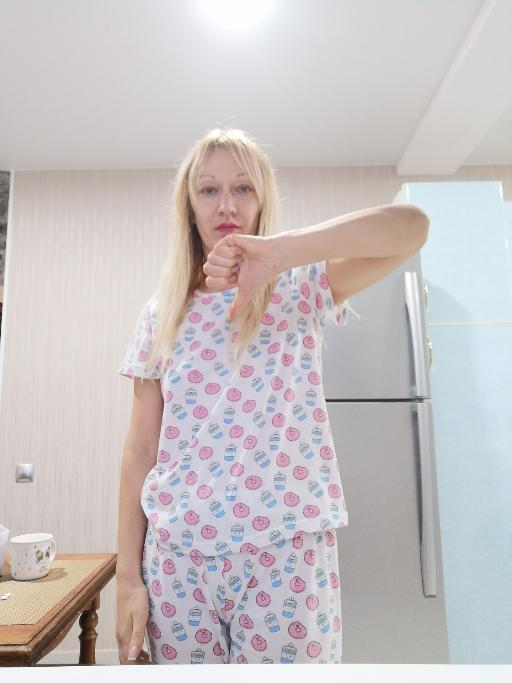dislike: (200, 231, 276, 321)
no_gesture: (110, 577, 152, 664)
